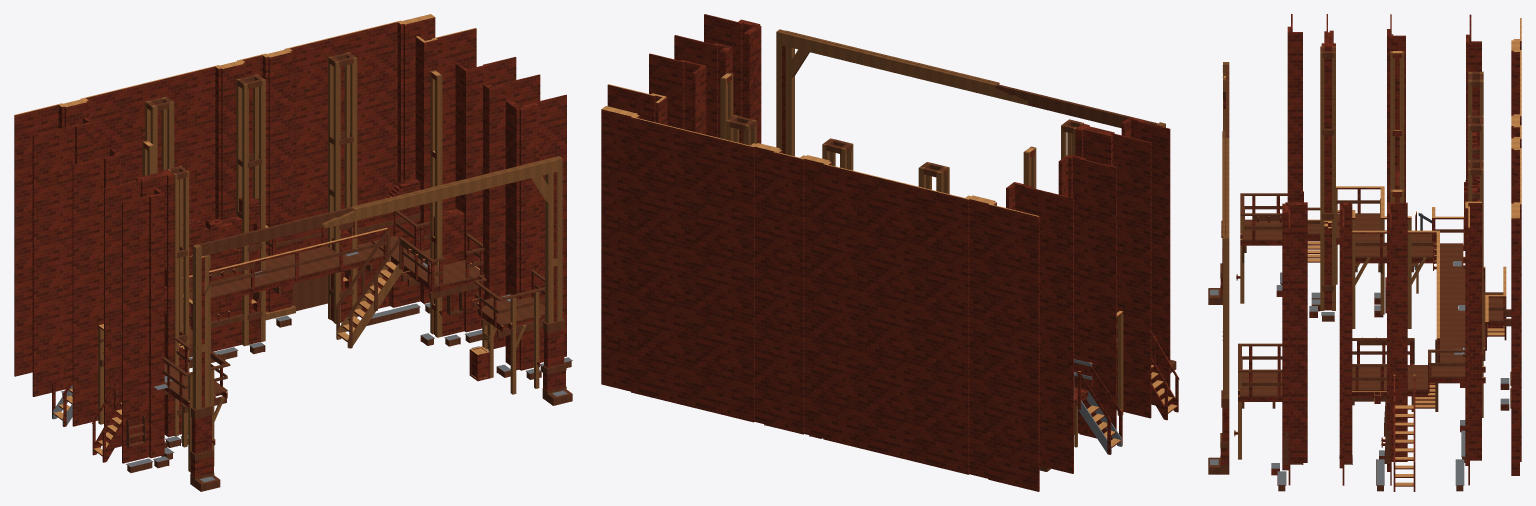
The model's file is hamilton-set.glb.
3 views of the same model, side by side, from view 1: azimuth 30°, elevation 25°; view 2: azimuth 150°, elevation 25°; view 3: azimuth 270°, elevation 25° (orthographic). The views are drawn at different scales.
Parts seen in each view (by area): view 1: ham_brick, ham_post, ham_rail, ham_plank, ham_iron; view 2: ham_brick, ham_post, ham_rail, ham_plank, ham_iron; view 3: ham_brick, ham_rail, ham_post, ham_plank, ham_iron.
Part boxes in pixels (left/top/right/bottom): ham_brick: left=14, top=17, right=566, bottom=476; ham_post: left=98, top=52, right=562, bottom=472; ham_rail: left=61, top=53, right=572, bottom=491; ham_plank: left=15, top=14, right=540, bottom=455; ham_iron: left=52, top=251, right=572, bottom=482; ham_brick: left=601, top=14, right=1179, bottom=491; ham_post: left=720, top=29, right=1165, bottom=447; ham_rail: left=727, top=84, right=1176, bottom=471; ham_plank: left=601, top=73, right=1177, bottom=446; ham_iron: left=1074, top=359, right=1170, bottom=454; ham_brick: left=1220, top=14, right=1521, bottom=491; ham_rail: left=1208, top=47, right=1511, bottom=491; ham_post: left=1221, top=46, right=1511, bottom=459; ham_plank: left=1223, top=18, right=1521, bottom=485; ham_iron: left=1210, top=213, right=1509, bottom=485.
Size of the model in its own units: 17.31 by 9.37 by 10.07.
5 materials, 4 textured.
